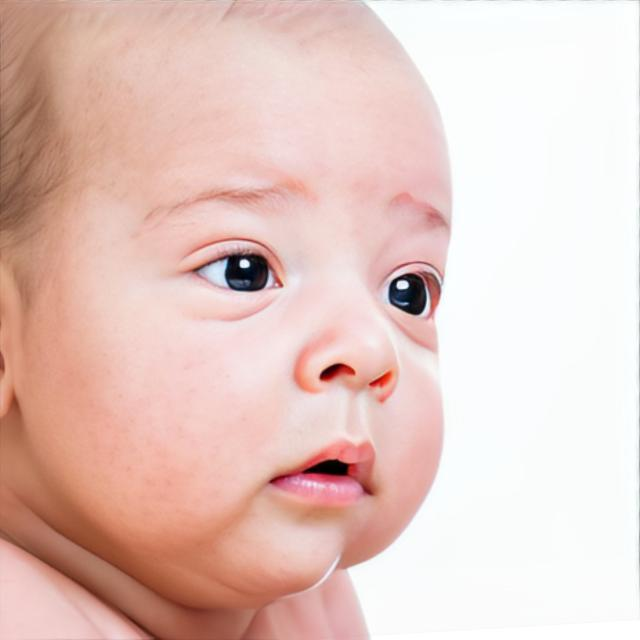fear: (12, 0, 456, 602)
